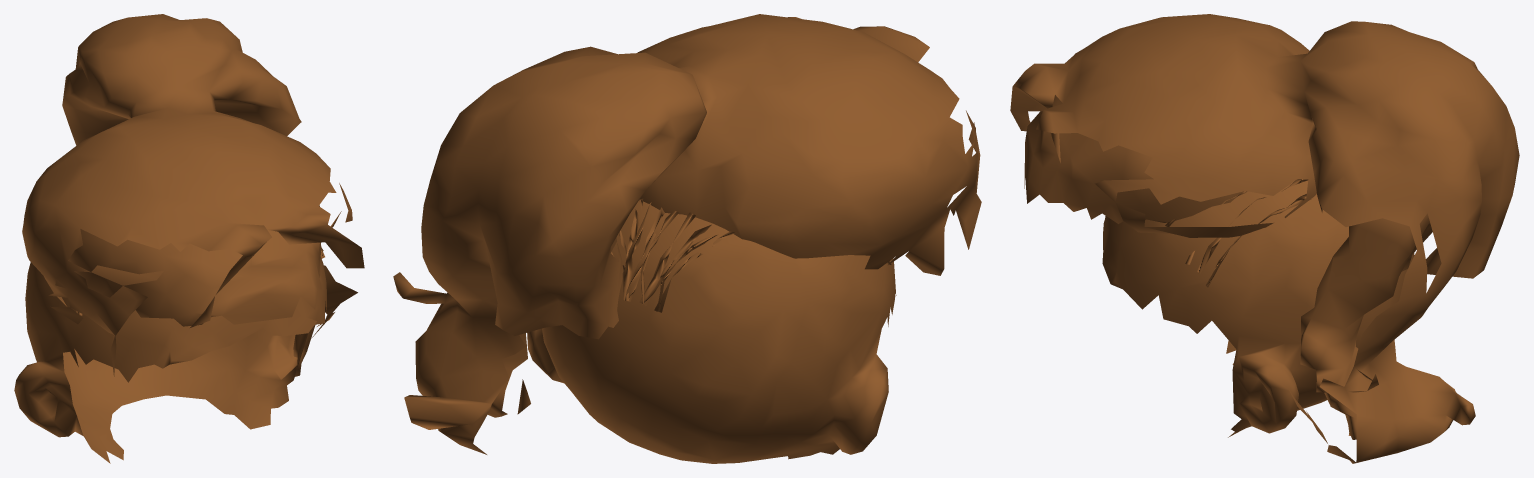
Rendered from high-ponytail.glb.
3 renders of one model, left to right at view 1: azimuth 30°, elevation 25°; view 2: azimuth 150°, elevation 25°; view 3: azimuth 270°, elevation 25°, orthographic. The views are drawn at different scales.
Parts seen in each view (by area): view 1: Hair, HairScalp; view 2: Hair, HairScalp, HairPulledRootStrands; view 3: Hair, HairScalp, HairPulledRootStrands.
Part boxes in pixels (x1,y1,x2,y2): Hair: [22, 14, 364, 376]; HairScalp: [14, 257, 326, 463]; Hair: [393, 14, 981, 454]; HairScalp: [527, 200, 896, 463]; HairPulledRootStrands: [611, 198, 891, 312]; Hair: [1010, 14, 1519, 463]; HairScalp: [1102, 180, 1414, 437]; HairPulledRootStrands: [1165, 179, 1317, 287].
Size of the model in its own units: 0.6562 by 0.584 by 0.7104.
